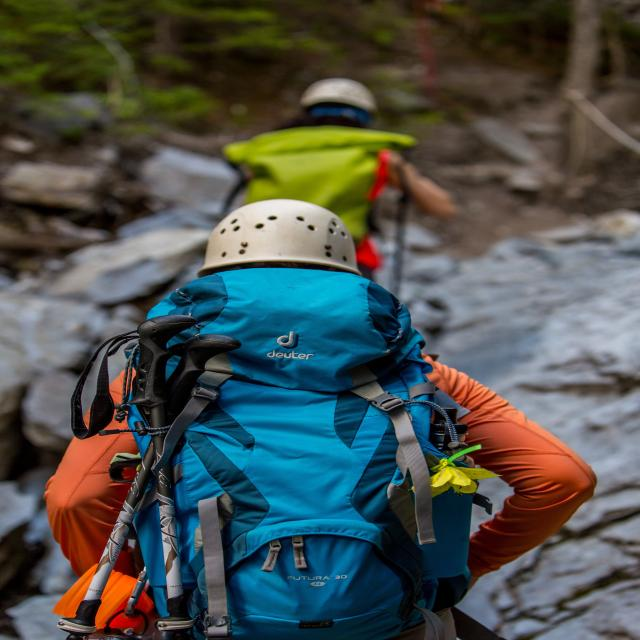backpack: (96, 263, 482, 640)
